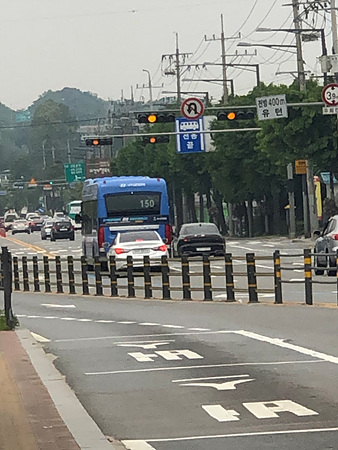bnum: (139, 197, 156, 208)
